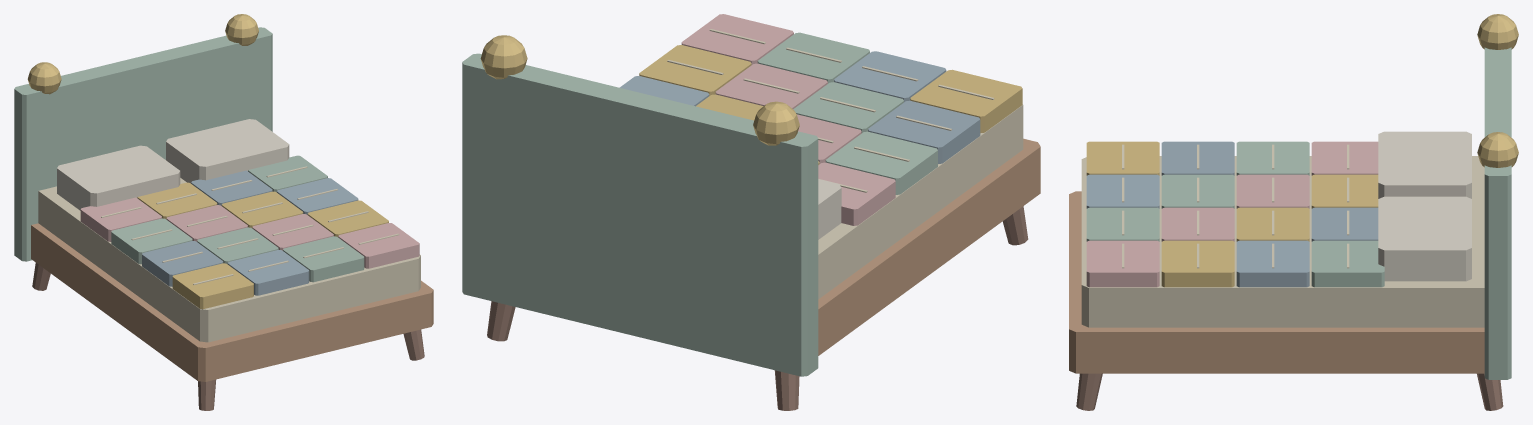
File: bed.glb
3 renders of one model, left to right at view 1: azimuth 30°, elevation 25°; view 2: azimuth 150°, elevation 25°; view 3: azimuth 270°, elevation 25°, orthographic. The views are drawn at different scales.
Visible parts, largest first — view 1: bed; view 2: bed; view 3: bed.
Boxes of the visible parts, x1=… form: bed: x1=14, y1=14, x2=433, y2=410; bed: x1=462, y1=14, x2=1040, y2=410; bed: x1=1069, y1=14, x2=1518, y2=410.
Size of the model in its own units: 1.7 by 1.44 by 2.16.
